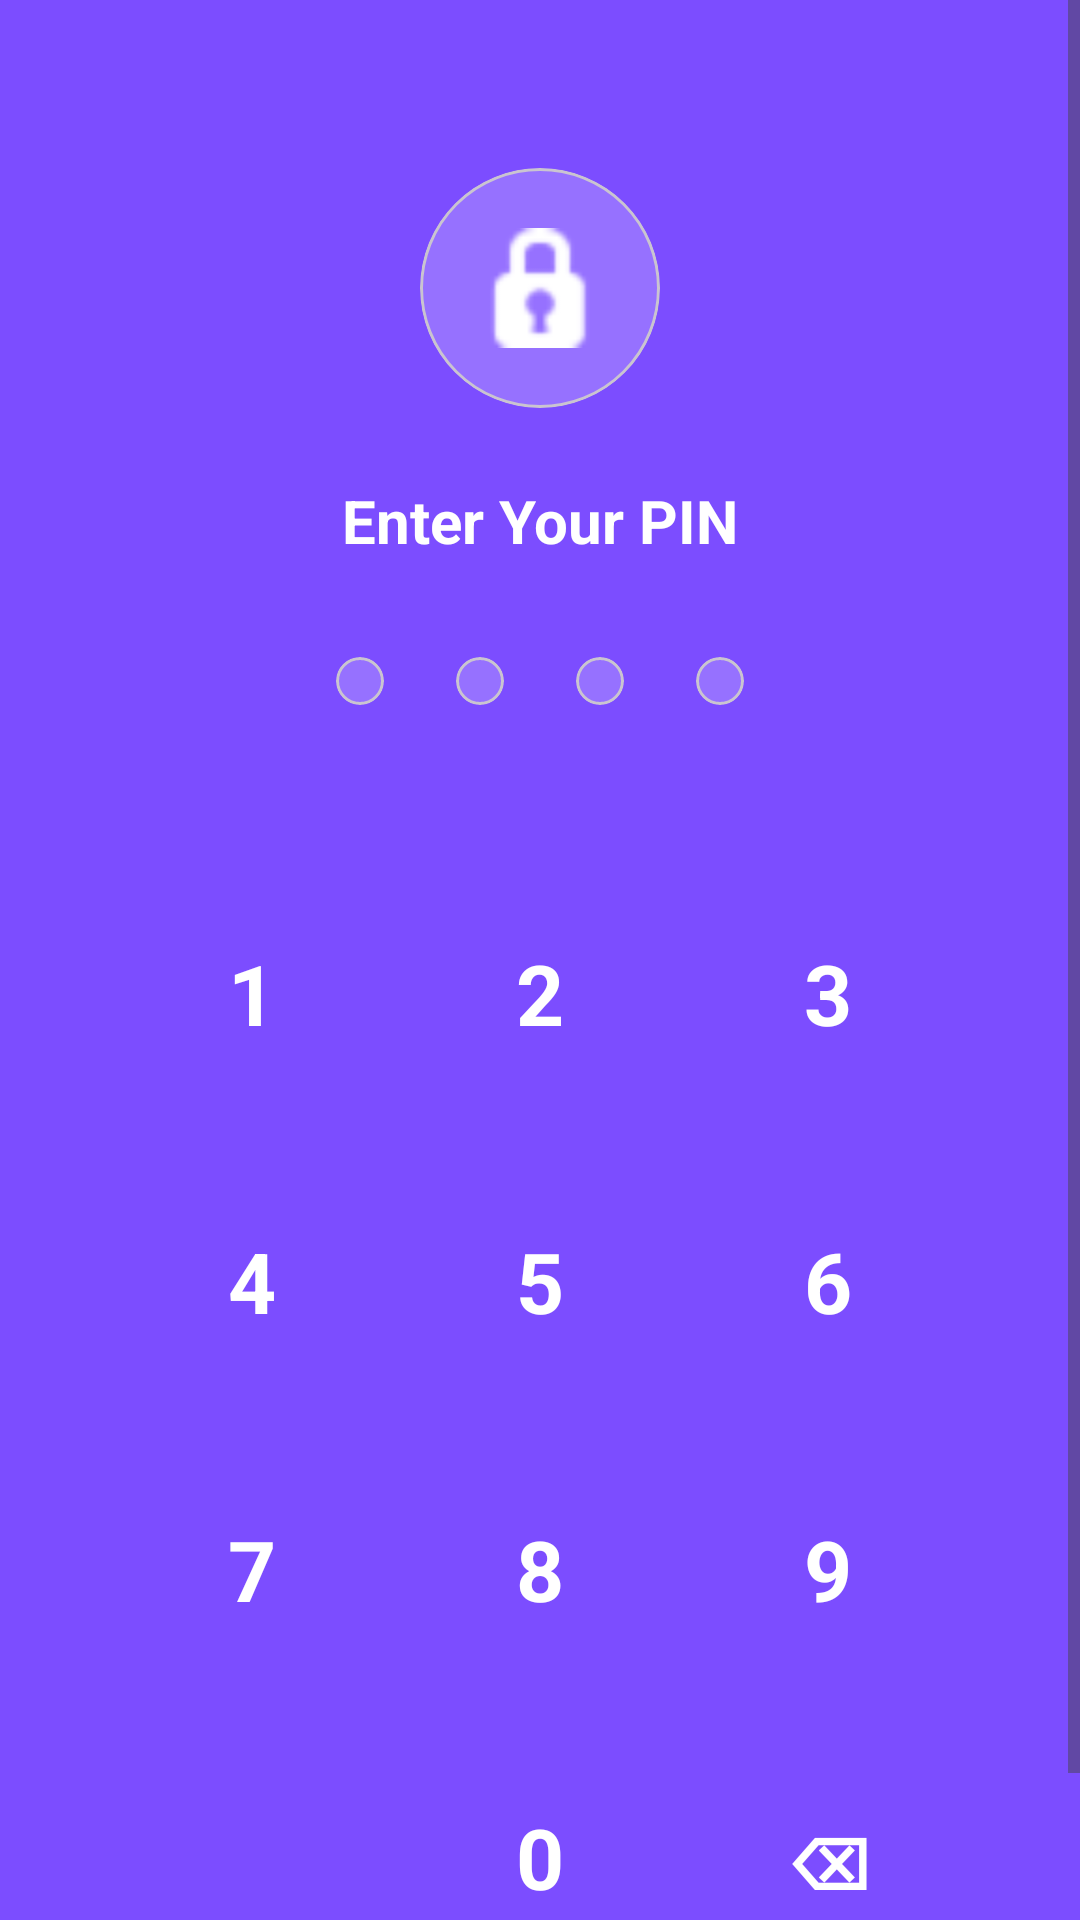

Screen size 1080px×1920px. Icon name, then its center in pixels as (x=x, y=y):
secure: (x=539, y=288)
